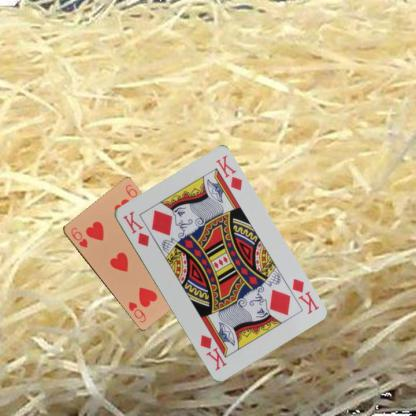6h: (68, 225, 89, 249)
Kd: (289, 275, 320, 316), (120, 208, 150, 248)
